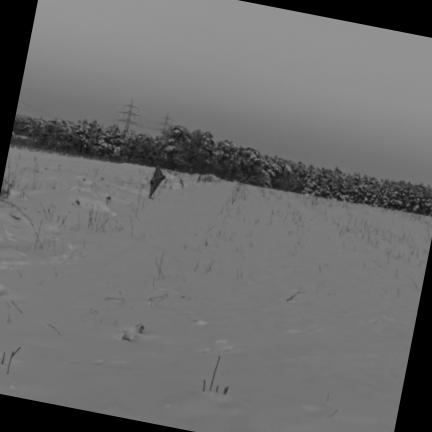Shahed: (149, 165, 165, 198)
